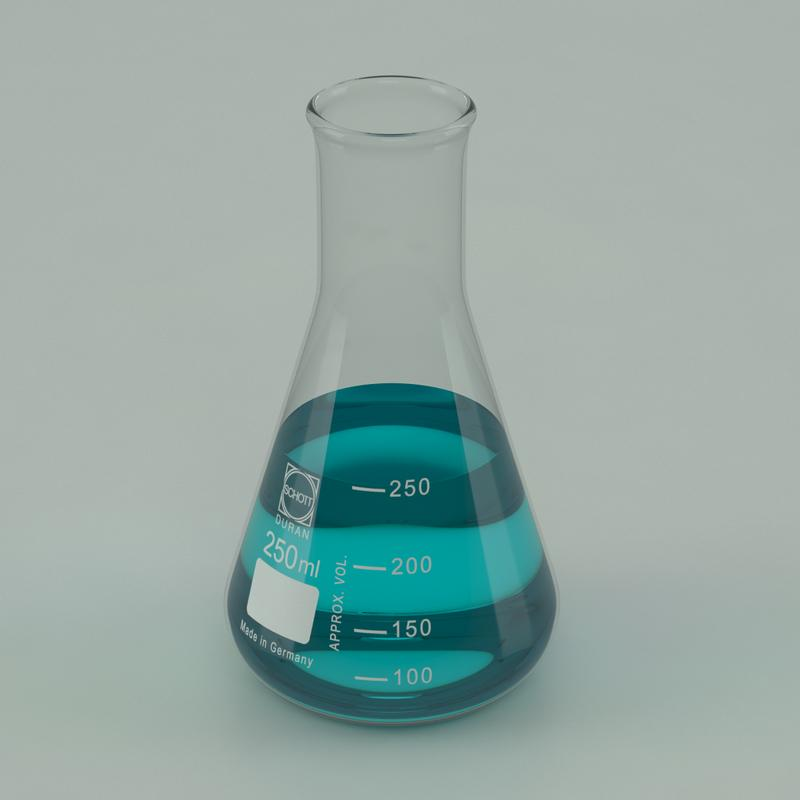Titrarion: (227, 76, 560, 721)
